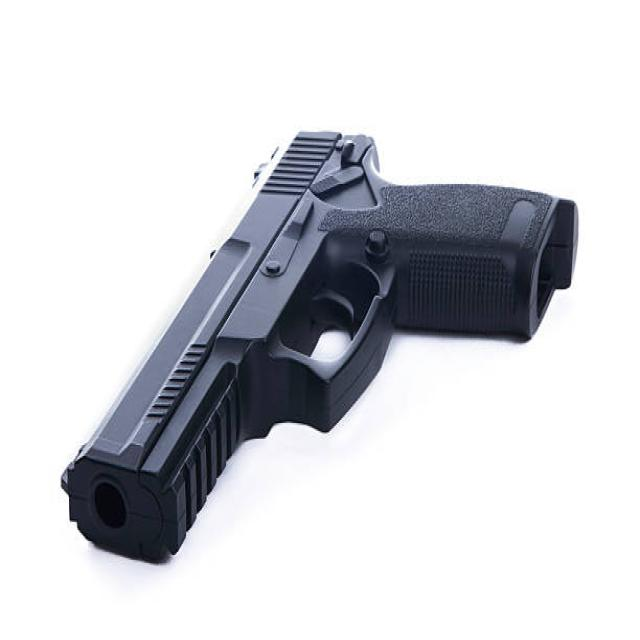pistol: (57, 115, 587, 577)
